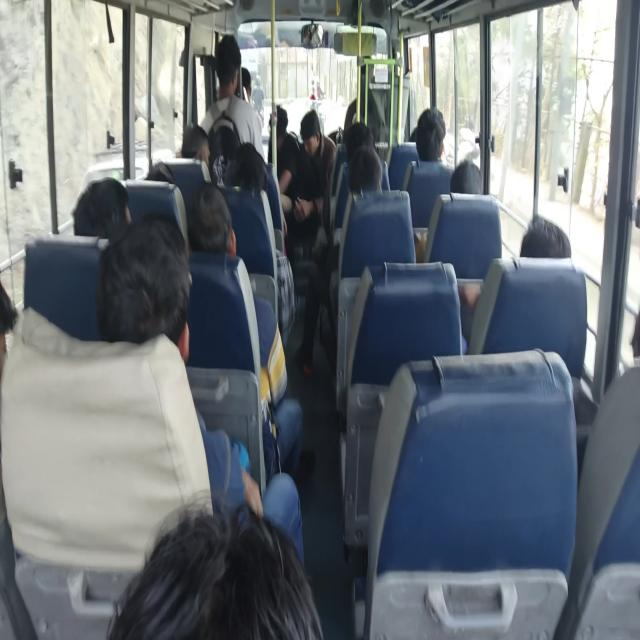person: (96, 214, 304, 566), (186, 181, 304, 478), (105, 490, 324, 639), (458, 214, 572, 353), (199, 34, 265, 164), (292, 109, 338, 249), (72, 176, 132, 242), (267, 105, 300, 211), (520, 215, 572, 258), (348, 144, 383, 194), (416, 106, 446, 162), (241, 66, 264, 129), (181, 123, 211, 168), (449, 159, 484, 194)
